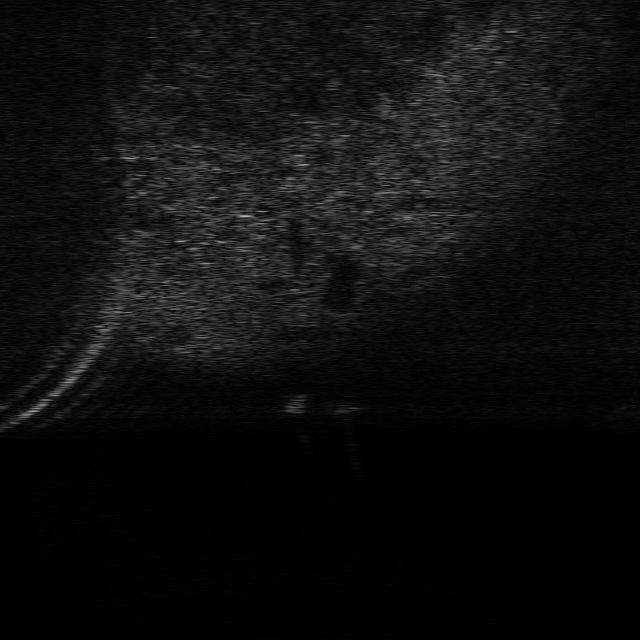cube: (328, 396, 358, 415)
cylinder: (284, 392, 306, 415)
